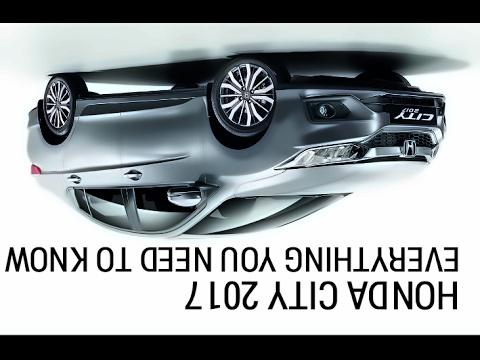Car hood: (232, 158, 439, 198)
Fender - -F-L-: (203, 87, 292, 199)
Fender - -R-L-: (35, 97, 77, 176)
Front bumper: (269, 80, 450, 141)
Headlight - -L-: (273, 139, 370, 172)
Headlight - -R-: (429, 138, 447, 167)
Passenger-s door - -F-L-: (124, 95, 203, 239)
Passenger-s door - -R-L-: (62, 102, 125, 236)
Rear bumper: (18, 104, 48, 149)
Rear light - -L-: (29, 157, 49, 181)
Side bumper - -L-: (69, 88, 208, 119)
Side mirror - -L-: (162, 180, 205, 207)
